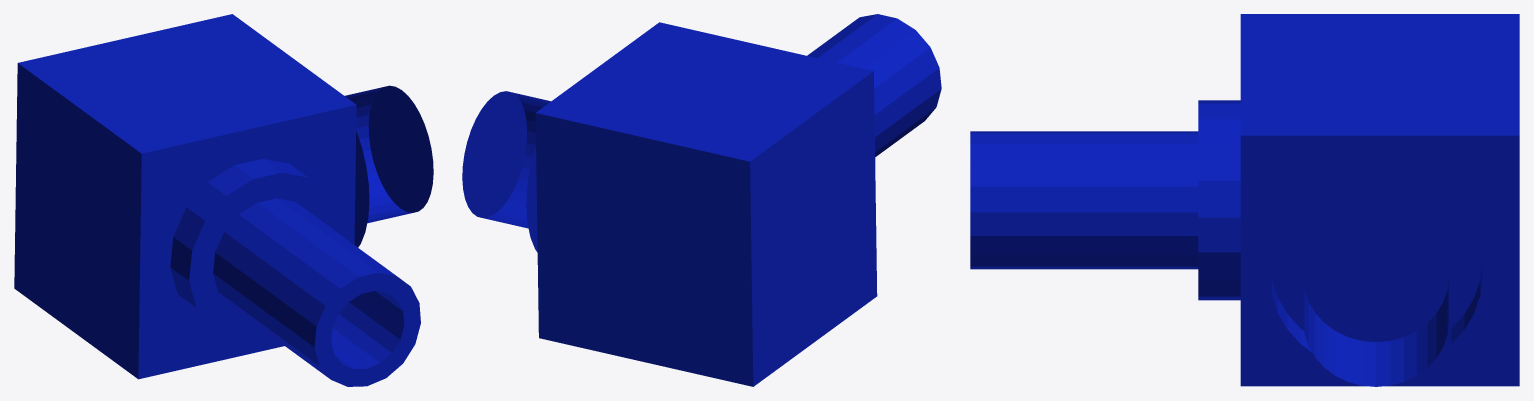
Rendered from assembly_regulator_part_blue.dae.
3 views of the same model, side by side, from view 1: azimuth 30°, elevation 25°; view 2: azimuth 150°, elevation 25°; view 3: azimuth 270°, elevation 25° (orthographic). The views are drawn at different scales.
Visible parts, largest first — view 1: Out_Regulator; view 2: Out_Regulator; view 3: Out_Regulator.
Part boxes in pixels (left/top/right/bottom): Out_Regulator: left=14, top=14, right=433, bottom=386; Out_Regulator: left=462, top=14, right=941, bottom=386; Out_Regulator: left=970, top=14, right=1519, bottom=386.
Bounding box in the file's own units: 0.1015 × 0.1327 × 0.0684.
